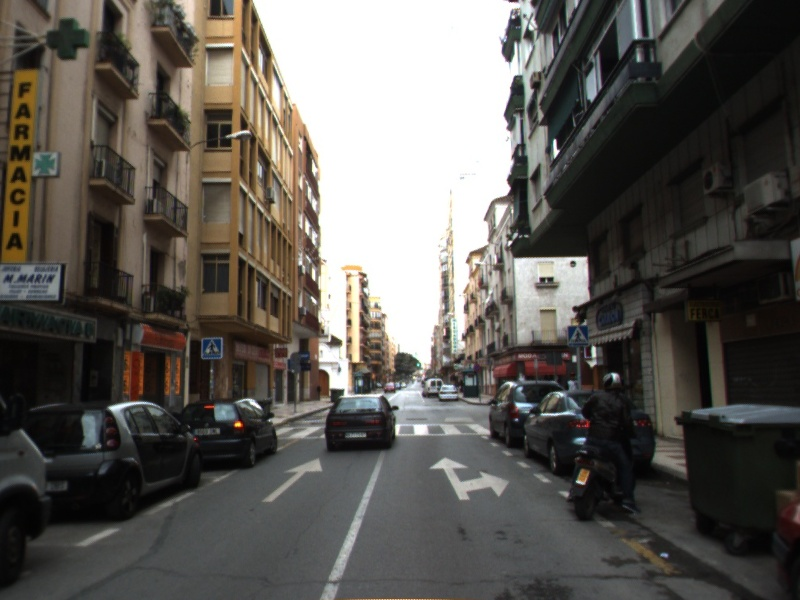STRAIGHT: (260, 456, 324, 503)
STRAIGHT_RIGHT: (427, 455, 511, 502)
